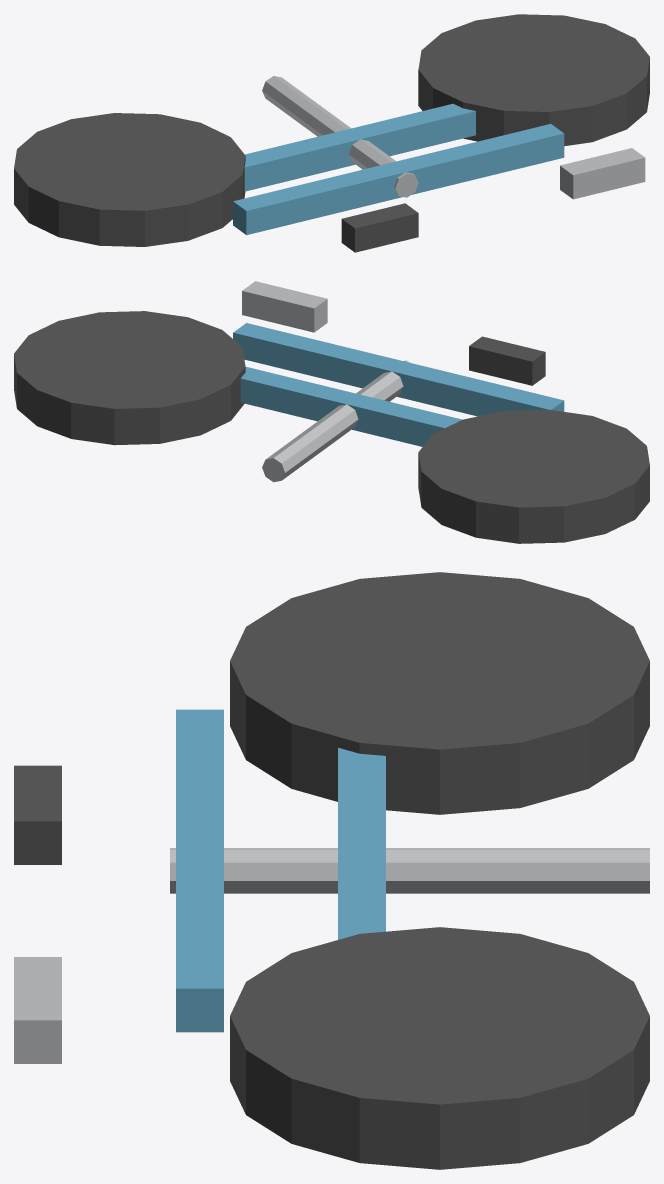
Rendered from vehicle-bicycle.glb.
The picture shows the model from 3 angles, top to bottom: view 1: azimuth 30°, elevation 25°; view 2: azimuth 150°, elevation 25°; view 3: azimuth 270°, elevation 25°; orthographic projection. The views are drawn at different scales.
Parts seen in each view (by area): view 1: world; view 2: world; view 3: world.
Boxes of the visible parts, x1,y1,x2,y2 form: world: (14, 14, 649, 252); world: (14, 281, 649, 543); world: (14, 572, 649, 1169).
Bounding box in the file's own units: 2.1 × 0.12 × 1.06.
